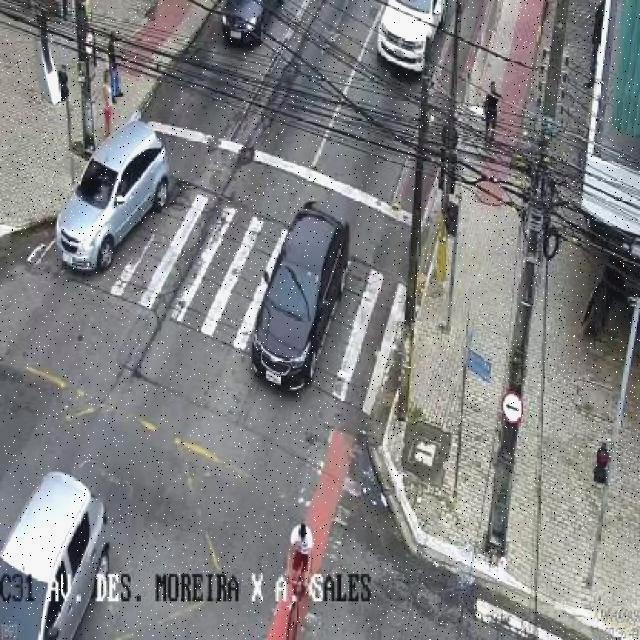Car: (252, 198, 366, 406), (0, 450, 127, 635), (52, 115, 184, 268), (357, 0, 461, 84), (214, 0, 281, 58)
Cycle: (265, 487, 323, 612)
